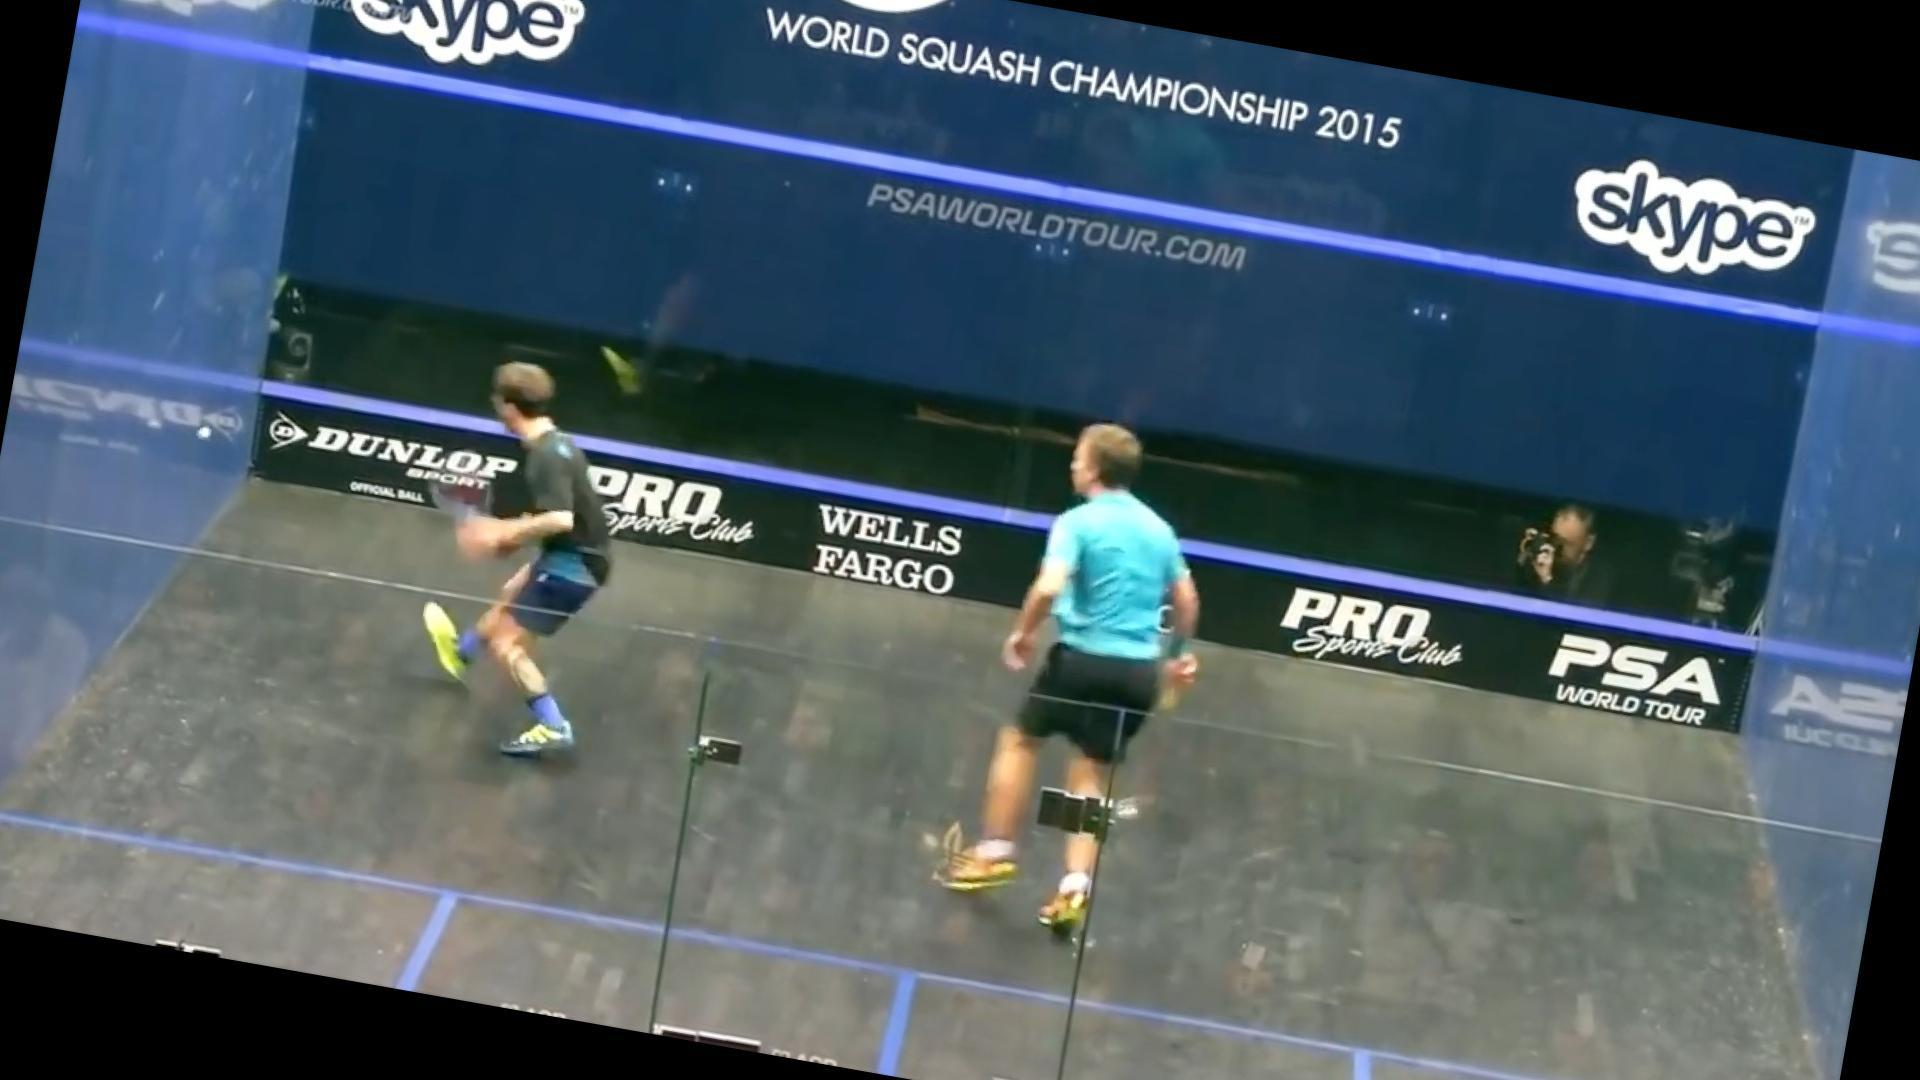Squash-Ball: (182, 400, 232, 465)
